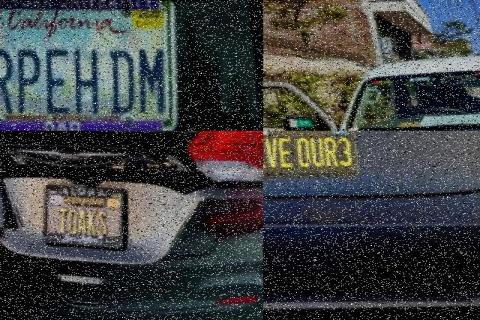LicensePlate: (0, 0, 174, 130), (30, 180, 126, 253), (263, 131, 359, 187)
